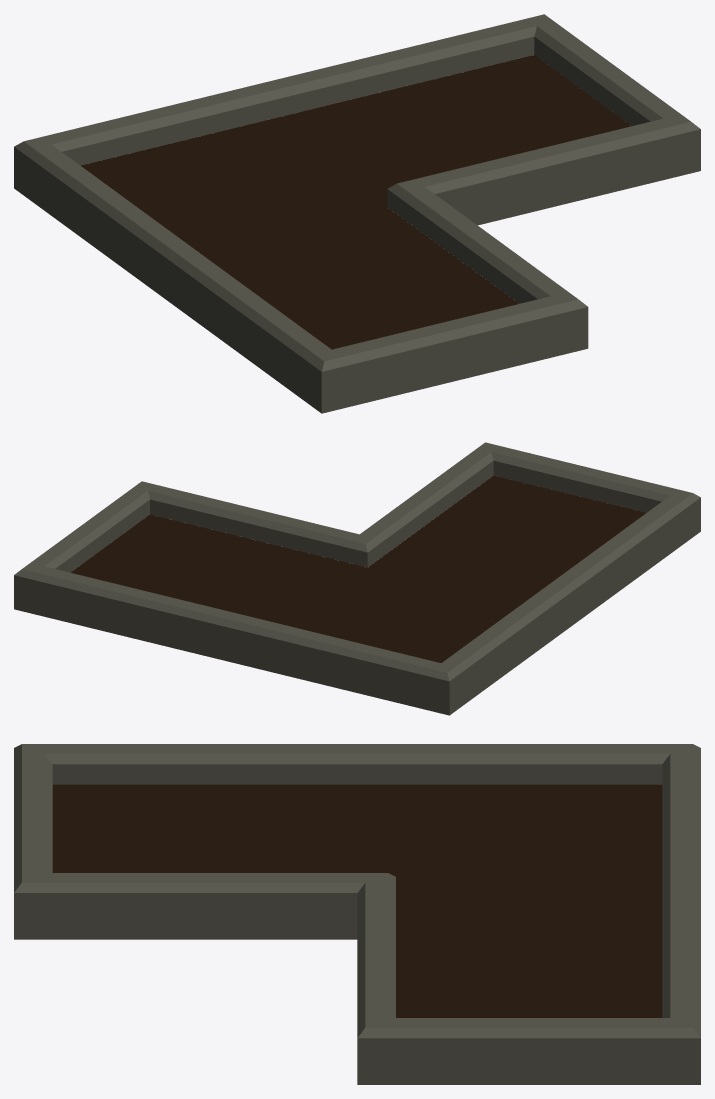
3 renders of one model, top to bottom at view 1: azimuth 30°, elevation 25°; view 2: azimuth 150°, elevation 25°; view 3: azimuth 270°, elevation 25°, orthographic. The views are drawn at different scales.
Visible parts, largest first — view 1: FlowerBed5; view 2: FlowerBed5; view 3: FlowerBed5.
Part boxes in pixels (x1,y1,x2,y2): FlowerBed5: (14, 14, 700, 413); FlowerBed5: (14, 442, 700, 715); FlowerBed5: (14, 744, 700, 1084).
Bounding box in the file's own units: 4 × 0.3457 × 4.
